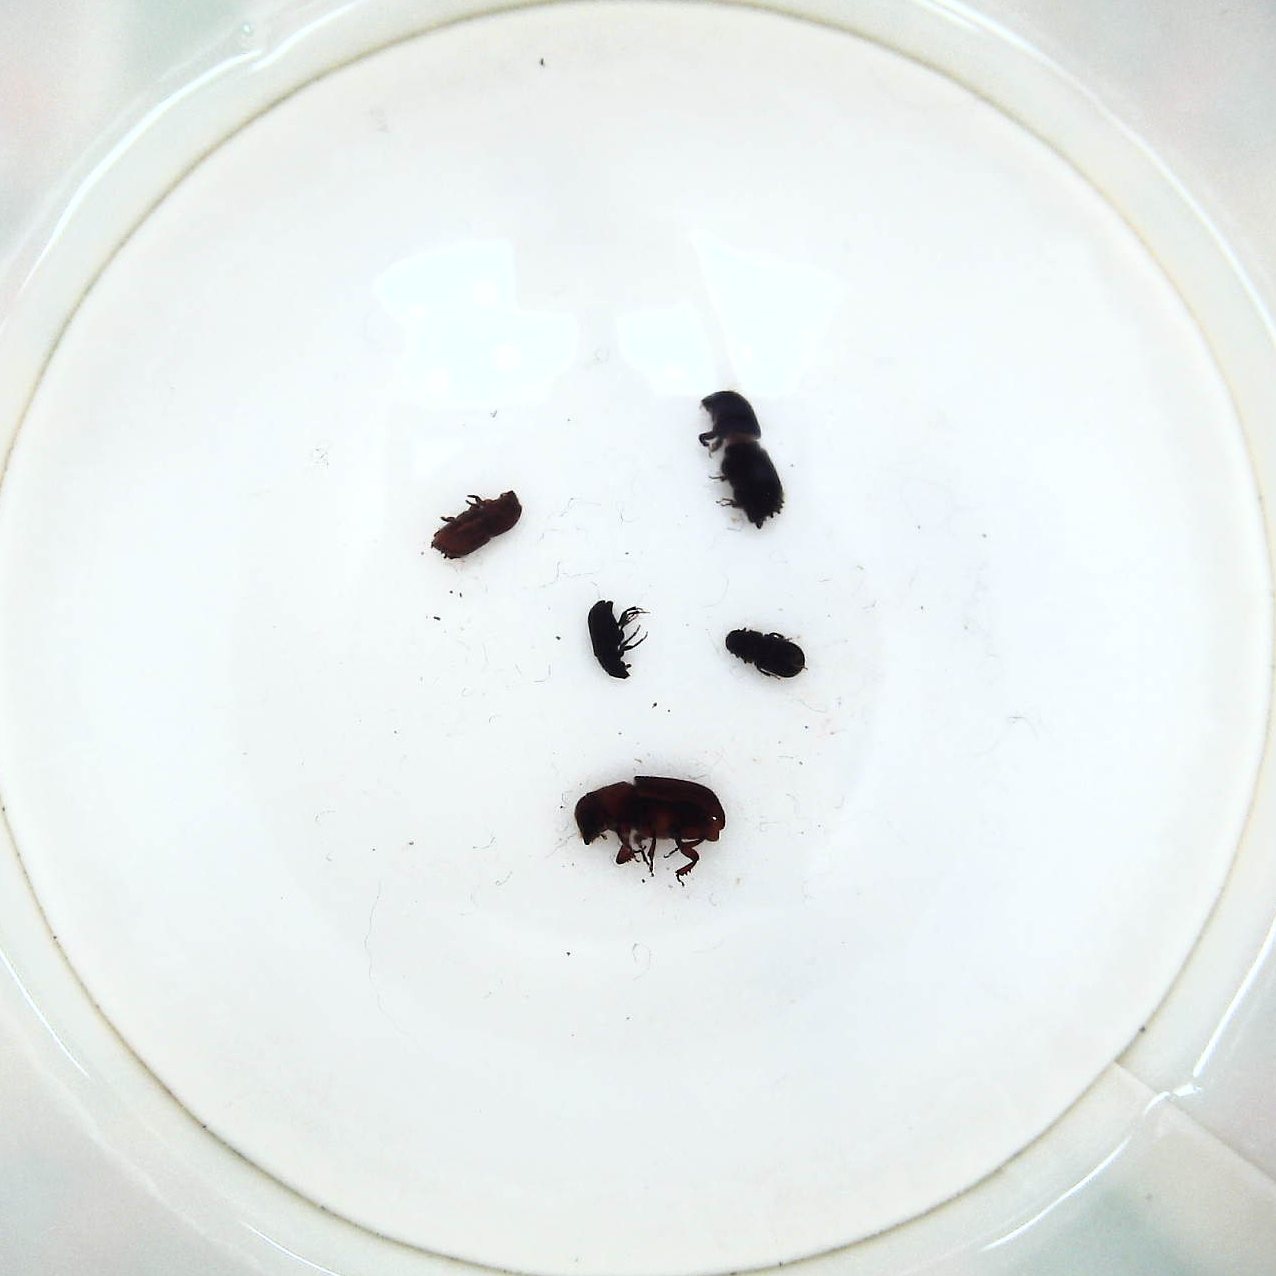Boerner: (692, 383, 785, 530)
Leconte: (575, 770, 724, 883)
armandi: (716, 622, 814, 684)
coleoptera: (585, 597, 649, 685)
linnaeus: (428, 480, 521, 563)
